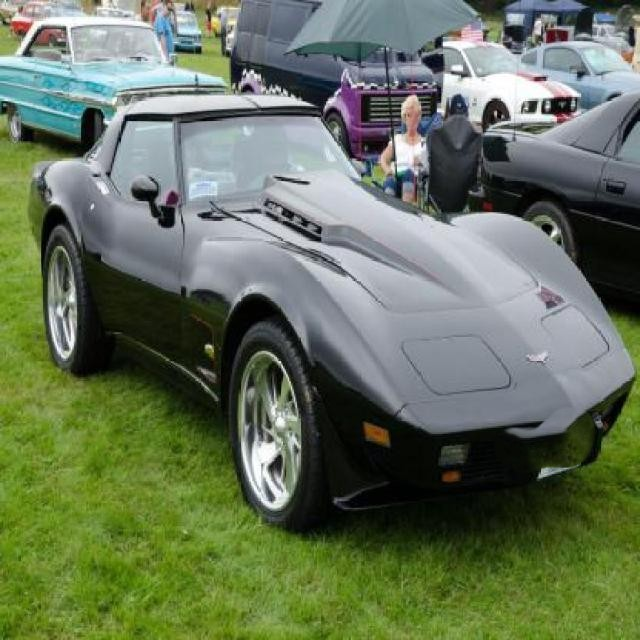car: (27, 87, 639, 529), (469, 99, 640, 323), (2, 16, 224, 152), (419, 38, 579, 134)
